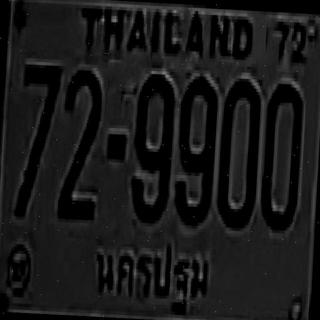N00: (215, 78, 260, 226), (260, 80, 304, 228)
N02: (56, 66, 101, 217)
N07: (14, 61, 60, 215)
N09: (128, 70, 174, 221), (173, 72, 217, 223)
P28: (89, 232, 214, 320)
